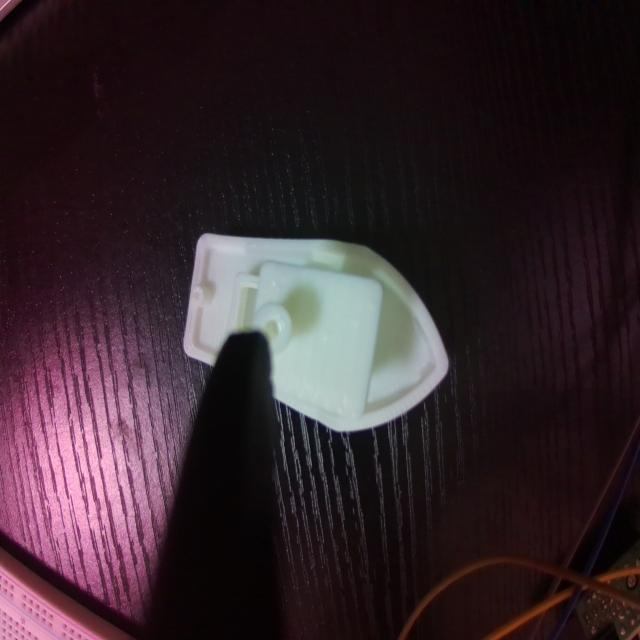ship: (183, 231, 450, 433)
